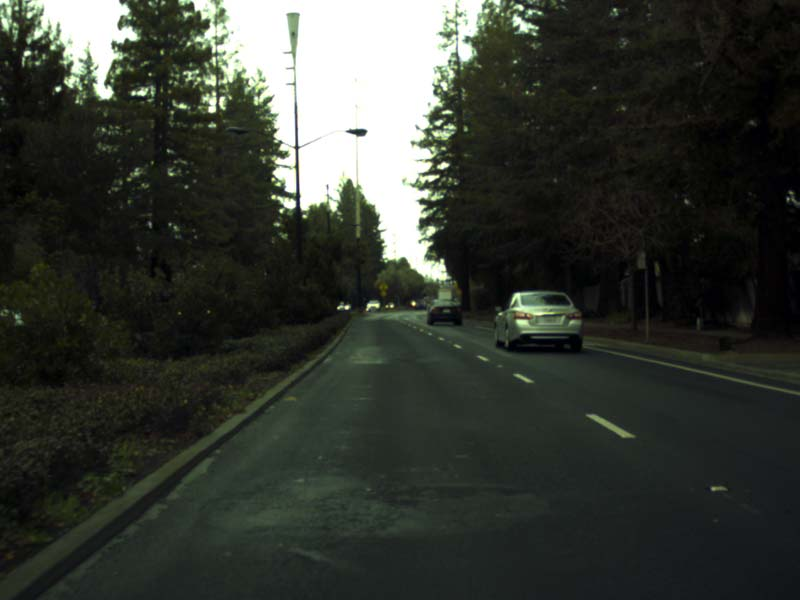Red: (423, 292, 426, 300)
